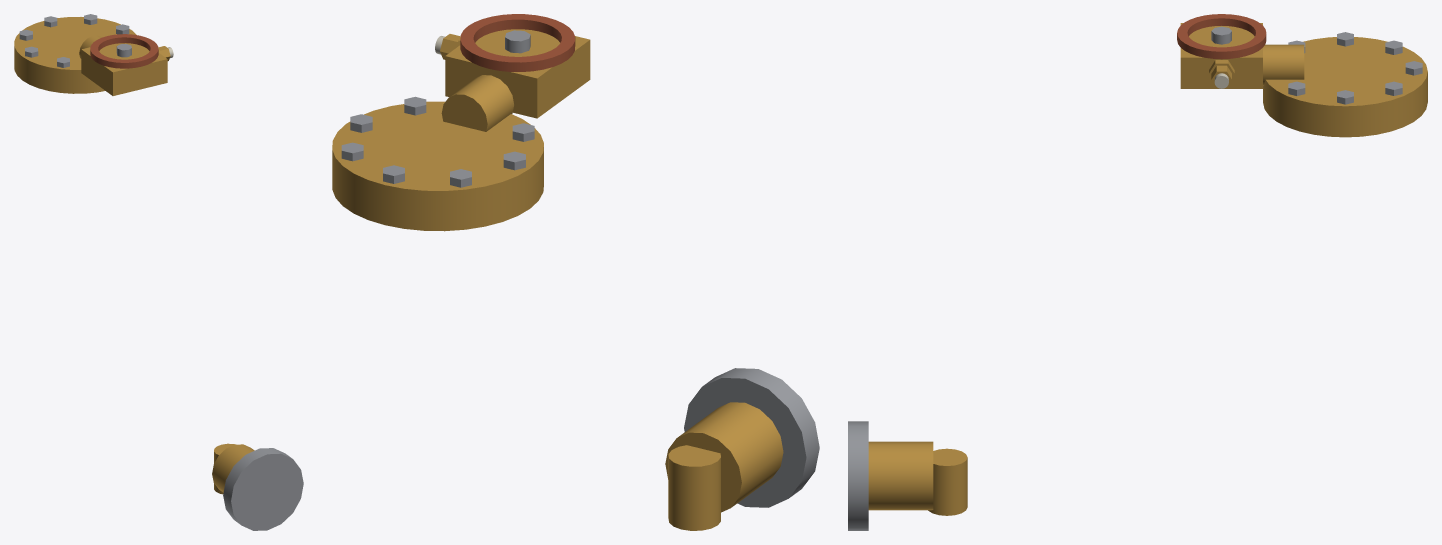
File: jcharge_valve.obj
The picture shows the model from 3 angles, left to right: view 1: azimuth 30°, elevation 25°; view 2: azimuth 150°, elevation 25°; view 3: azimuth 270°, elevation 25°; orthographic projection. The views are drawn at different scales.
Parts seen in each view (by area): view 1: jcharge_valve; view 2: jcharge_valve; view 3: jcharge_valve.
Boxes of the visible parts, bbox=[...] form: jcharge_valve: bbox=[14, 14, 303, 530]; jcharge_valve: bbox=[332, 14, 819, 530]; jcharge_valve: bbox=[848, 14, 1427, 530].
Size of the model in its own units: 0.24 by 0.795 by 0.844.
